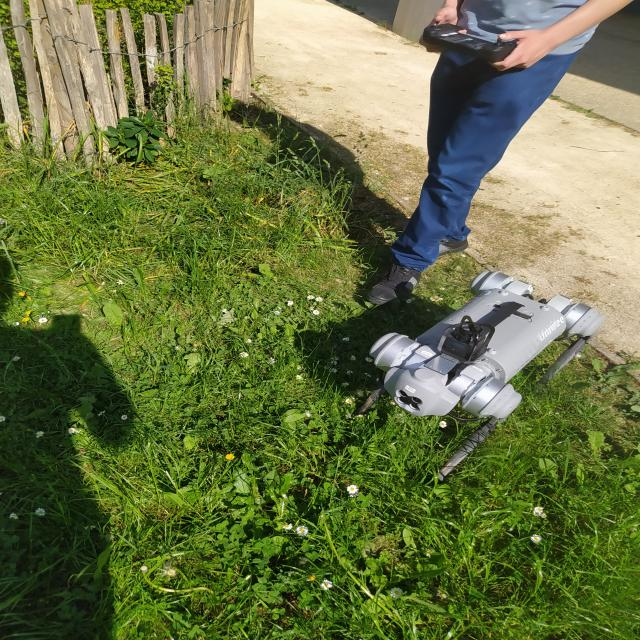unitree-go1-robot: (338, 255, 615, 490)
